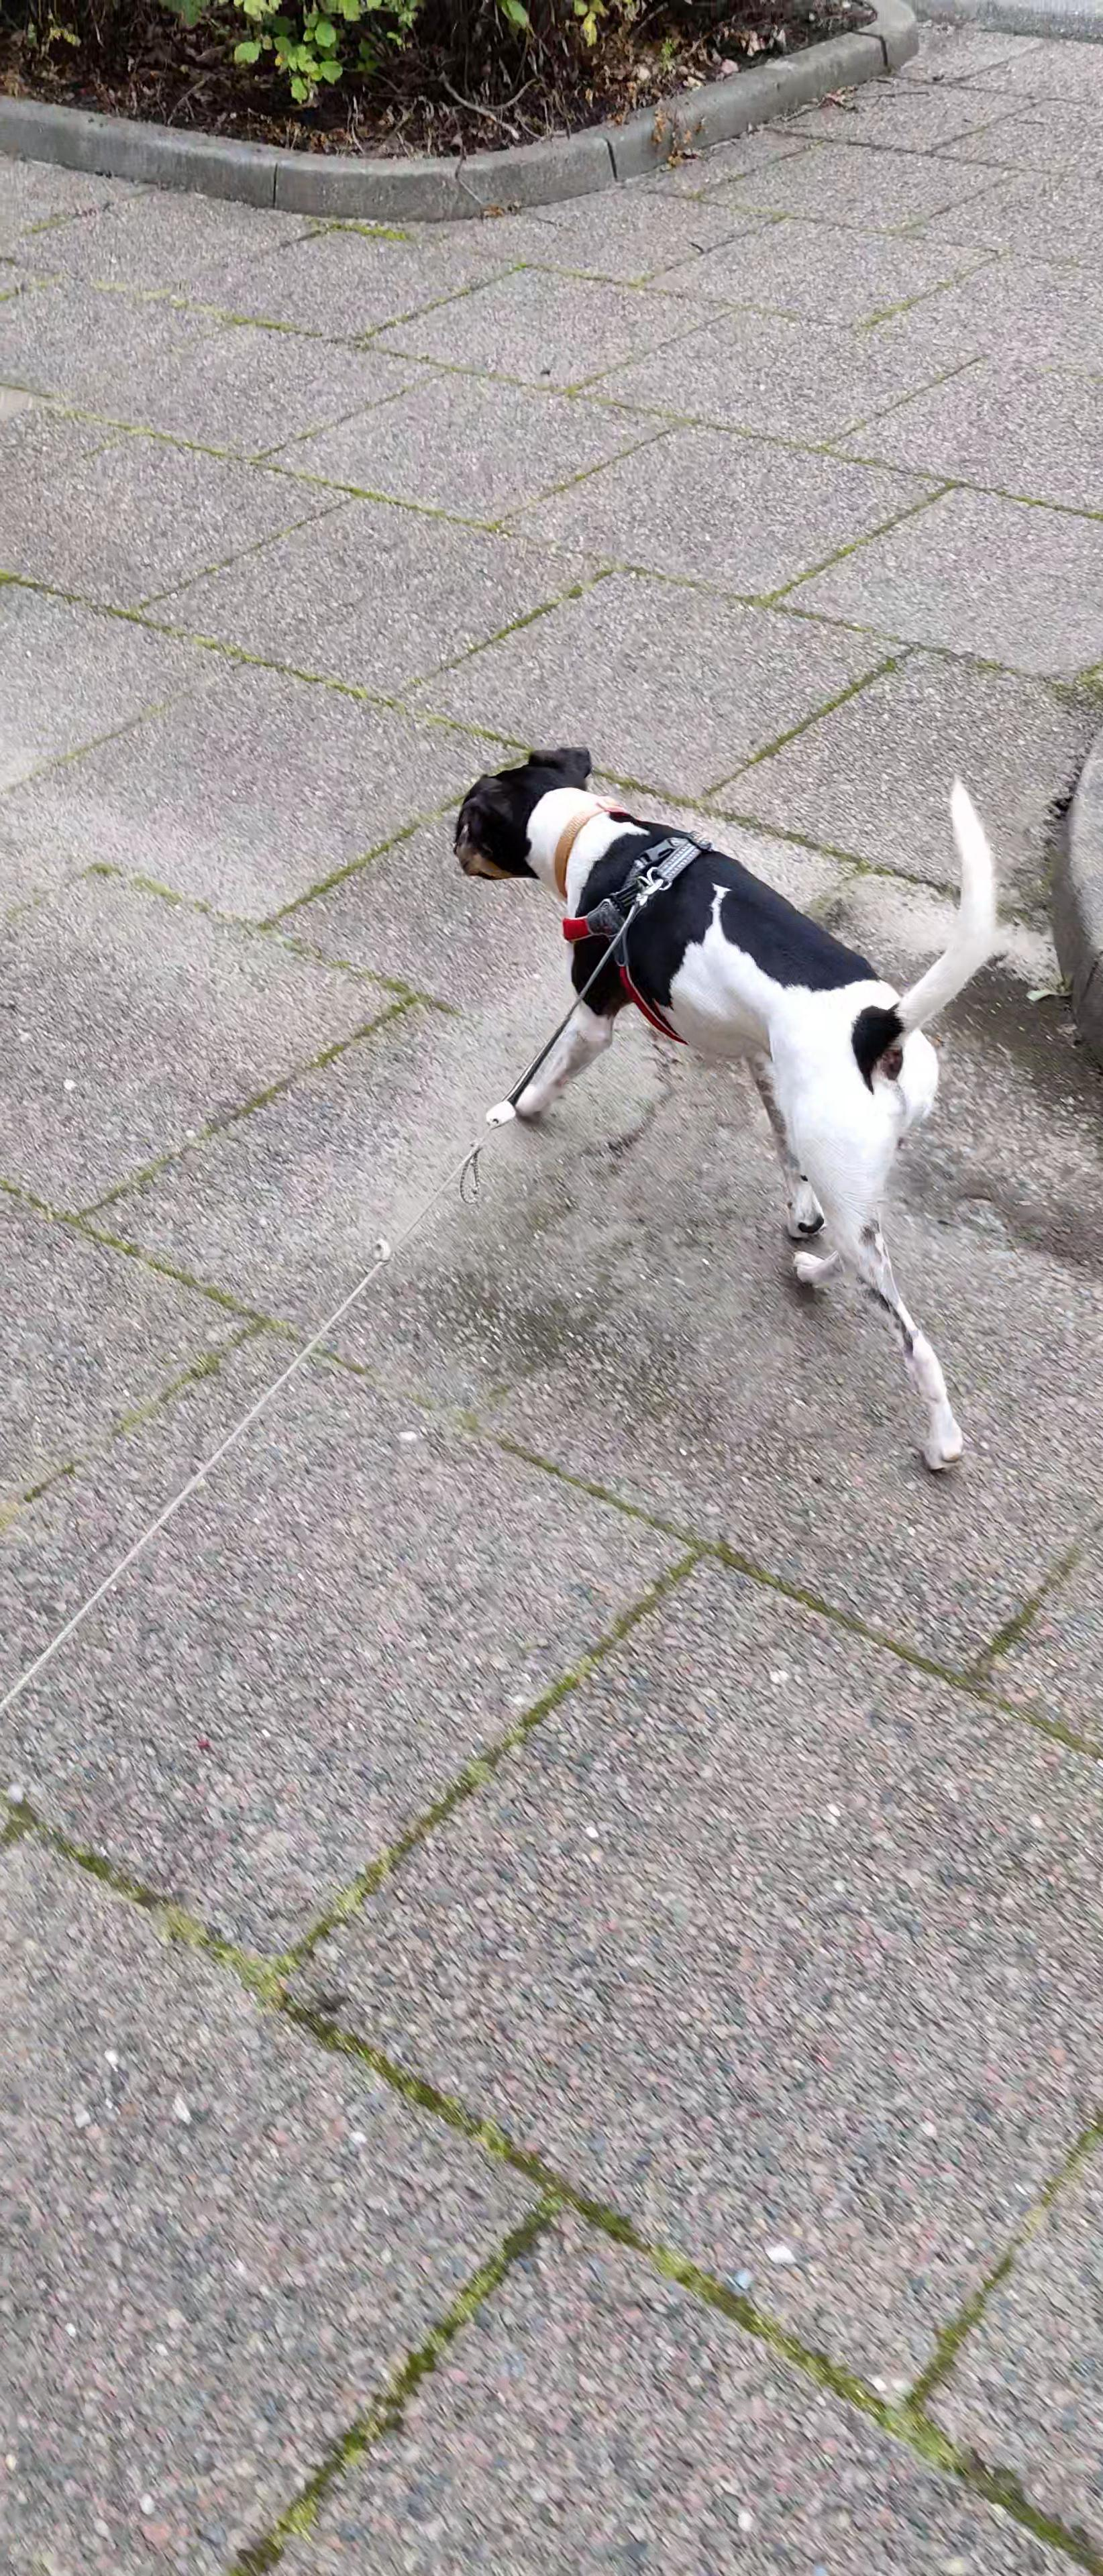Dog: (432, 667, 1026, 1502)
